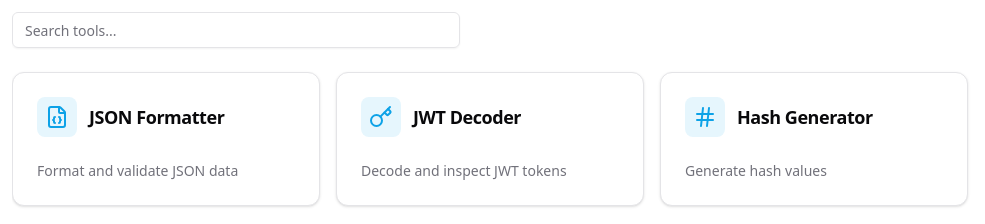
Test: ToolGrid › Search Functionality › should show no-results message for unmatched query
Type "zzznomatch" into the field.
click(236, 30); type("zzznomatch")  # box x1=12 y1=12 x2=460 y2=48
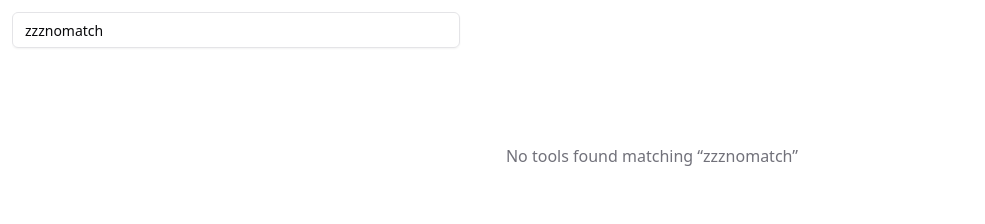
Result: no links are shown
Result: the text "No tools found matching “zzznomatch”" is shown at x1=506 y1=145 x2=798 y2=167
